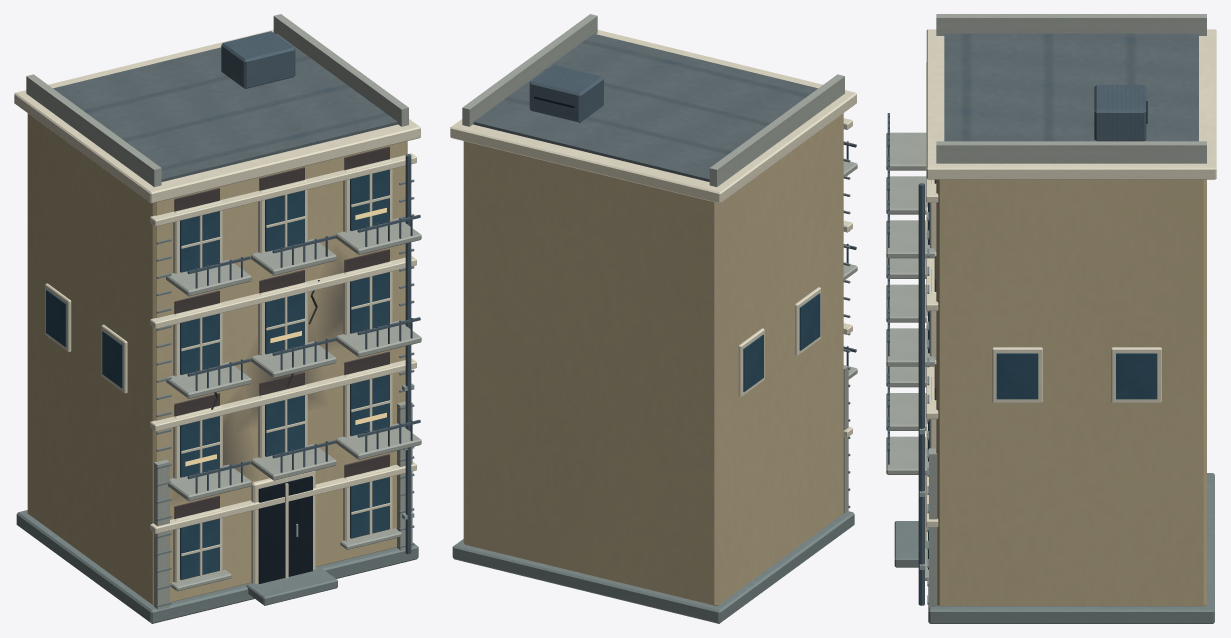
The model's file is apartment-scorched.glb.
3 views of the same model, side by side, from view 1: azimuth 30°, elevation 25°; view 2: azimuth 150°, elevation 25°; view 3: azimuth 270°, elevation 25° (orthographic). The views are drawn at different scales.
Visible parts, largest first — view 1: apartment-scorched; view 2: apartment-scorched; view 3: apartment-scorched.
Boxes of the visible parts, x1,y1,x2,y2 form: apartment-scorched: [14, 14, 421, 623]; apartment-scorched: [450, 14, 857, 623]; apartment-scorched: [886, 14, 1216, 623].
Size of the model in its own units: 5.74 by 9.41 by 5.74.
Materials: 5 (5 with a texture image).
